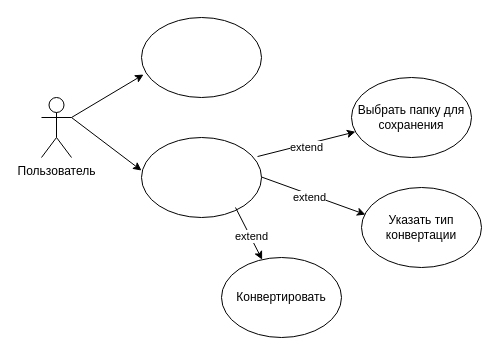
Image size: 499x355. Some labels were removed from this diagram. The centre of each missing label's shape, as x and y in pixels:
"Выбор изображения" belongs at (x=201, y=57).
"Конвертация изображения" belongs at (x=201, y=177).
